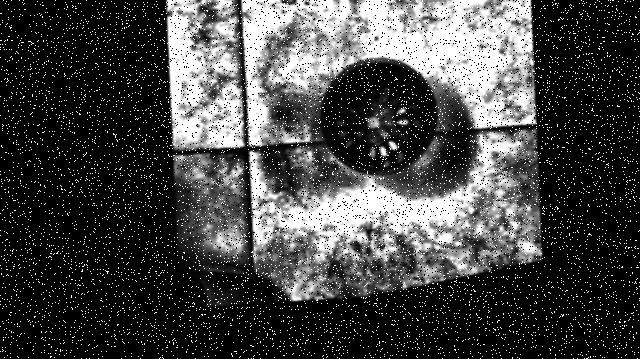pot: (320, 57, 435, 173)
